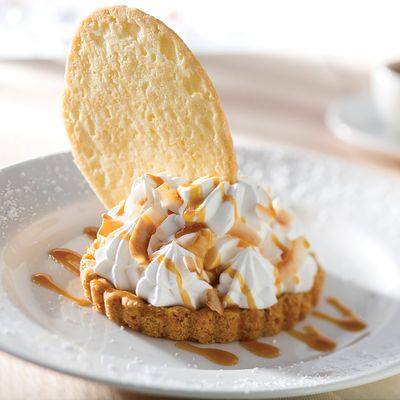taco: (61, 5, 239, 214)
